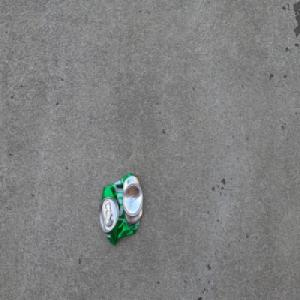SodaCan: (98, 172, 143, 246)
